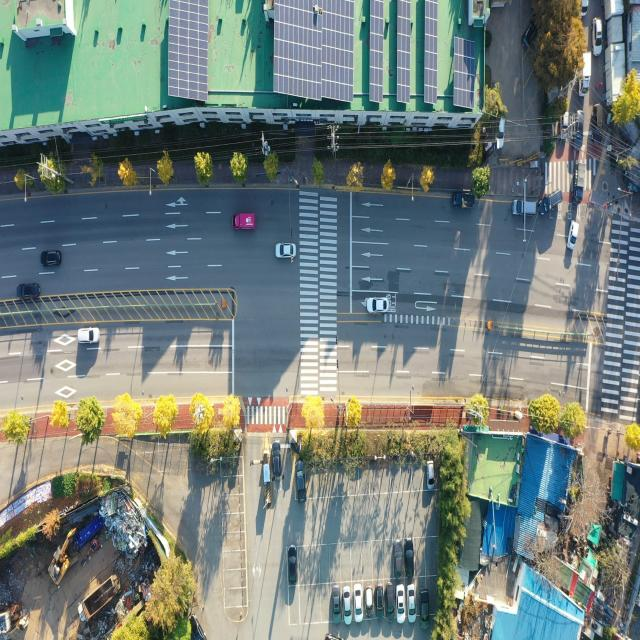car: (540, 191, 563, 216), (523, 17, 539, 48), (295, 458, 305, 501), (568, 220, 581, 252), (573, 112, 584, 149), (420, 591, 430, 630), (404, 535, 414, 574), (367, 296, 391, 312), (512, 200, 536, 216), (276, 242, 296, 260), (77, 327, 99, 343), (394, 538, 403, 577), (374, 584, 384, 618), (386, 583, 394, 625), (288, 547, 297, 584), (332, 586, 341, 622), (41, 250, 61, 266), (272, 442, 282, 474), (594, 103, 602, 142), (365, 586, 374, 620), (496, 116, 505, 150), (594, 19, 602, 57), (344, 587, 352, 624), (354, 586, 362, 623), (409, 586, 417, 622), (22, 283, 41, 298), (396, 585, 404, 620), (560, 111, 567, 138), (427, 462, 434, 486)
small_truck: (575, 52, 591, 96), (574, 164, 587, 204), (449, 196, 473, 212), (234, 213, 256, 230)
